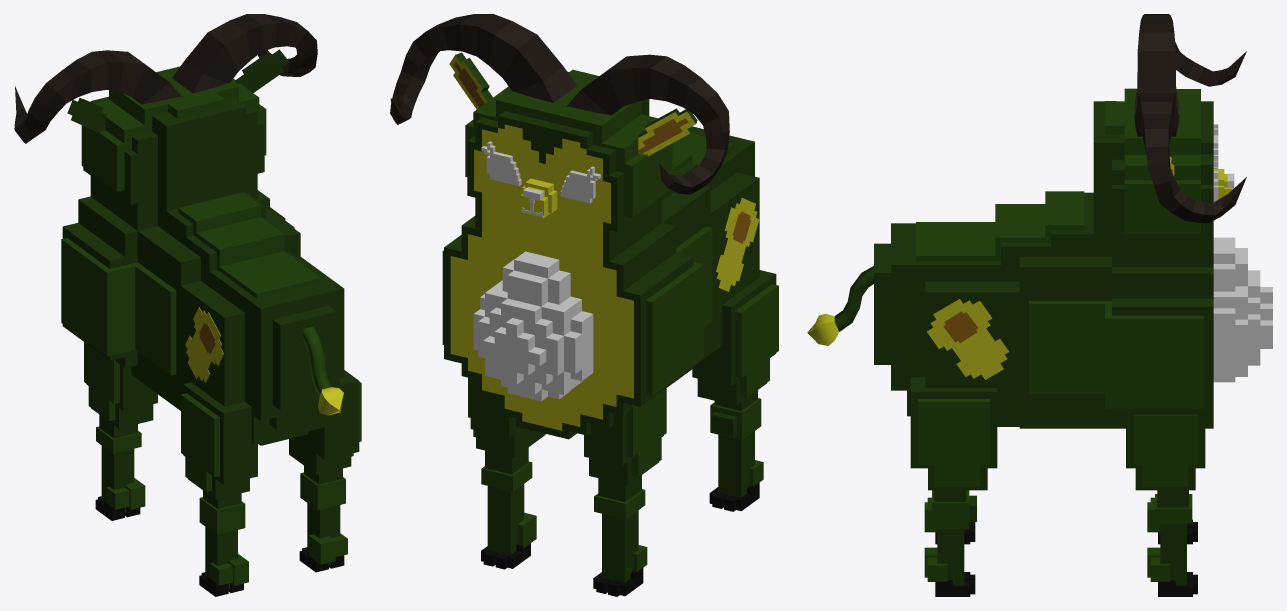
3 renders of one model, left to right at view 1: azimuth 30°, elevation 25°; view 2: azimuth 150°, elevation 25°; view 3: azimuth 270°, elevation 25°, orthographic. The views are drawn at different scales.
Visible parts, largest first — view 1: Cube1, Cube0011, Cube0191, Cube0021, Cube0241, Cube0131; view 2: Cube1, Cube0241, Cube0011, Sphere1, Cube0191, Cube0021, Cube0131, Cube0211; view 3: Cube1, Cube0011, Sphere1, Cube0021, Cube0191, Cube0241, Cube0131, Cube0211.
Boxes of the visible parts, left/top/right/bottom form: Cube1: left=62, top=49, right=359, bottom=589; Cube0011: left=61, top=66, right=361, bottom=585; Cube0191: left=14, top=14, right=317, bottom=143; Cube0021: left=14, top=14, right=317, bottom=143; Cube0241: left=185, top=307, right=343, bottom=415; Cube0131: left=95, top=496, right=344, bottom=596; Cube1: left=444, top=52, right=776, bottom=582; Cube0241: left=449, top=55, right=759, bottom=430; Cube0011: left=442, top=69, right=778, bottom=571; Sphere1: left=473, top=141, right=600, bottom=401; Cube0191: left=390, top=14, right=729, bottom=194; Cube0021: left=390, top=14, right=729, bottom=193; Cube0131: left=481, top=482, right=759, bottom=596; Cube0211: left=454, top=62, right=750, bottom=243; Cube1: left=874, top=101, right=1213, bottom=585; Cube0011: left=834, top=88, right=1203, bottom=581; Sphere1: left=1213, top=124, right=1272, bottom=382; Cube0021: left=1137, top=14, right=1234, bottom=222; Cube0191: left=1134, top=15, right=1246, bottom=222; Cube0241: left=807, top=156, right=1232, bottom=379; Cube0131: left=935, top=519, right=1197, bottom=596; Cube0211: left=943, top=169, right=1174, bottom=342.
Size of the model in its own units: 4.01 by 6.19 by 5.2.
